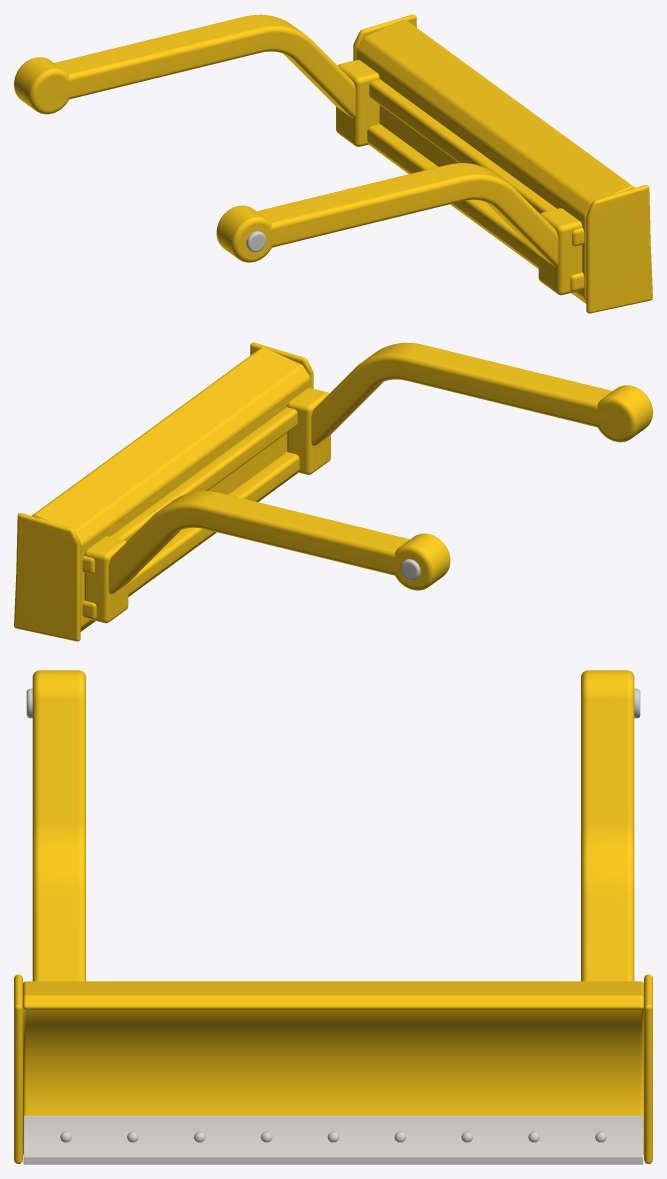
Rendered from SM_Navvy_Blade.fbx.
3 renders of one model, top to bottom at view 1: azimuth 30°, elevation 25°; view 2: azimuth 150°, elevation 25°; view 3: azimuth 270°, elevation 25°, orthographic. The views are drawn at different scales.
Visible parts, largest first — view 1: SM_Navvy_Blade; view 2: SM_Navvy_Blade; view 3: SM_Navvy_Blade.
Part boxes in pixels (<box>): SM_Navvy_Blade: <box>14,14,652,313</box>; SM_Navvy_Blade: <box>14,342,652,641</box>; SM_Navvy_Blade: <box>14,670,652,1164</box>.
Size of the model in its own units: 0.86 by 0.8687 by 0.3495.
